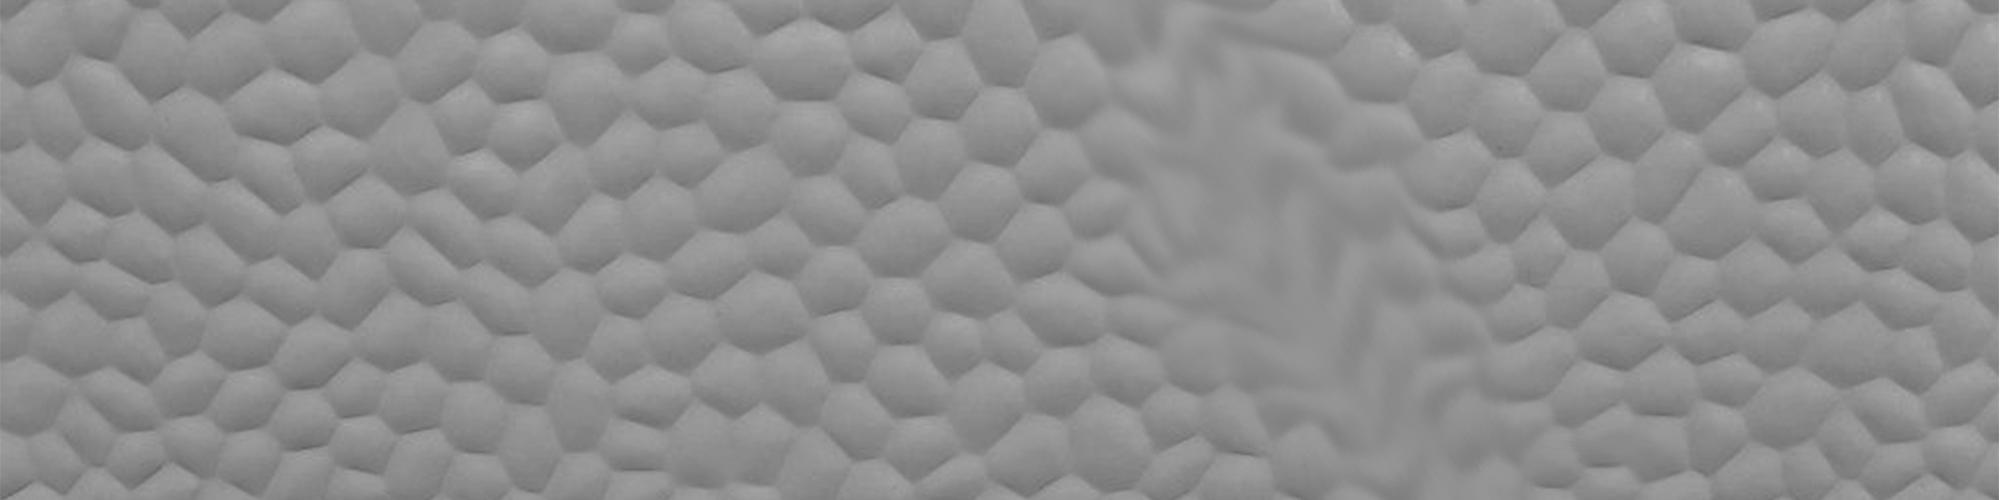Flow_Lines: (1138, 15, 1504, 487)
